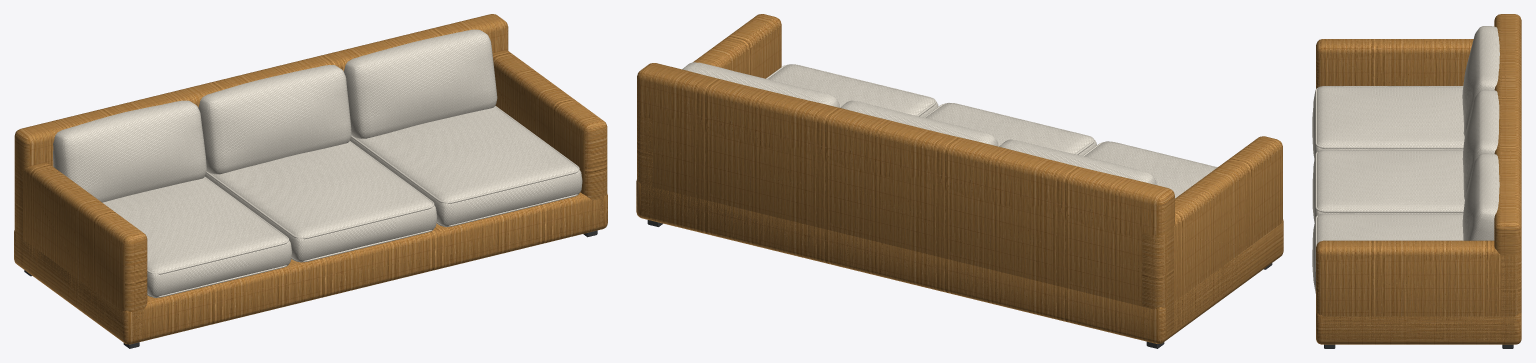
The model's file is sofa_chillout_bajo_3p.glb.
3 renders of one model, left to right at view 1: azimuth 30°, elevation 25°; view 2: azimuth 150°, elevation 25°; view 3: azimuth 270°, elevation 25°, orthographic. The views are drawn at different scales.
Visible parts, largest first — view 1: sofa_chillout_bajo_3p; view 2: sofa_chillout_bajo_3p; view 3: sofa_chillout_bajo_3p.
Boxes of the visible parts, box(x1,y1,x2,y2) form: sofa_chillout_bajo_3p: box(14, 14, 607, 348); sofa_chillout_bajo_3p: box(636, 14, 1283, 348); sofa_chillout_bajo_3p: box(1312, 14, 1521, 348).
Size of the model in its own units: 2.2 by 0.6339 by 0.9164.
3 materials, 2 textured.
